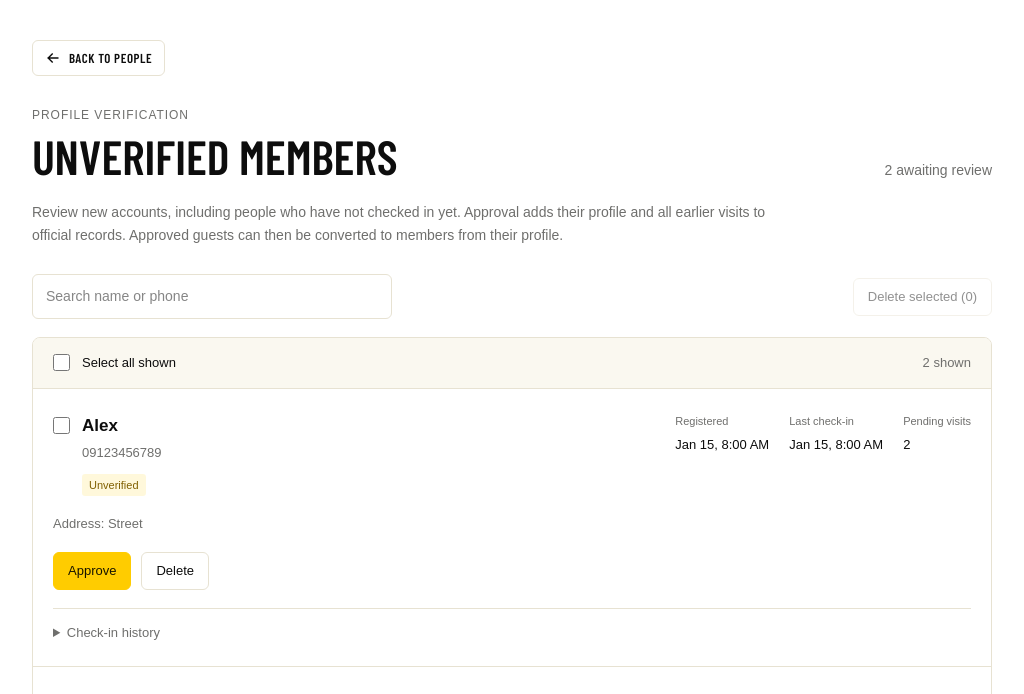
Test: keeps retry available after an unconfirmed request and does not report success
This screenshot has width=1024, height=694.
Click the button "Approve": (92, 571) [53,552,131,590]
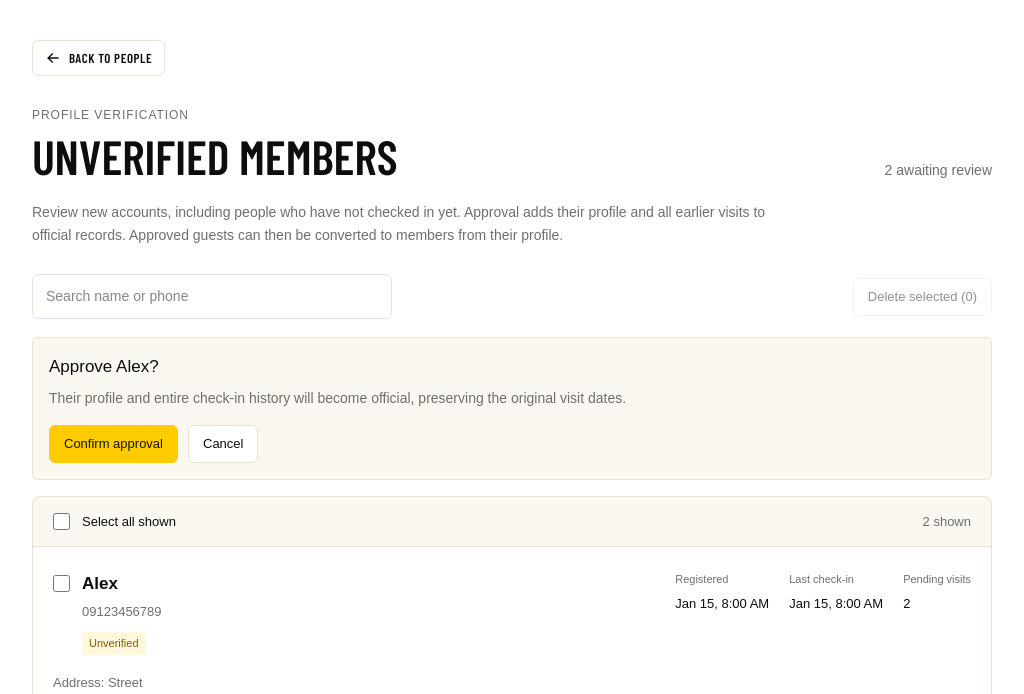
Click the button "Confirm approval": (114, 444) [49,425,178,463]
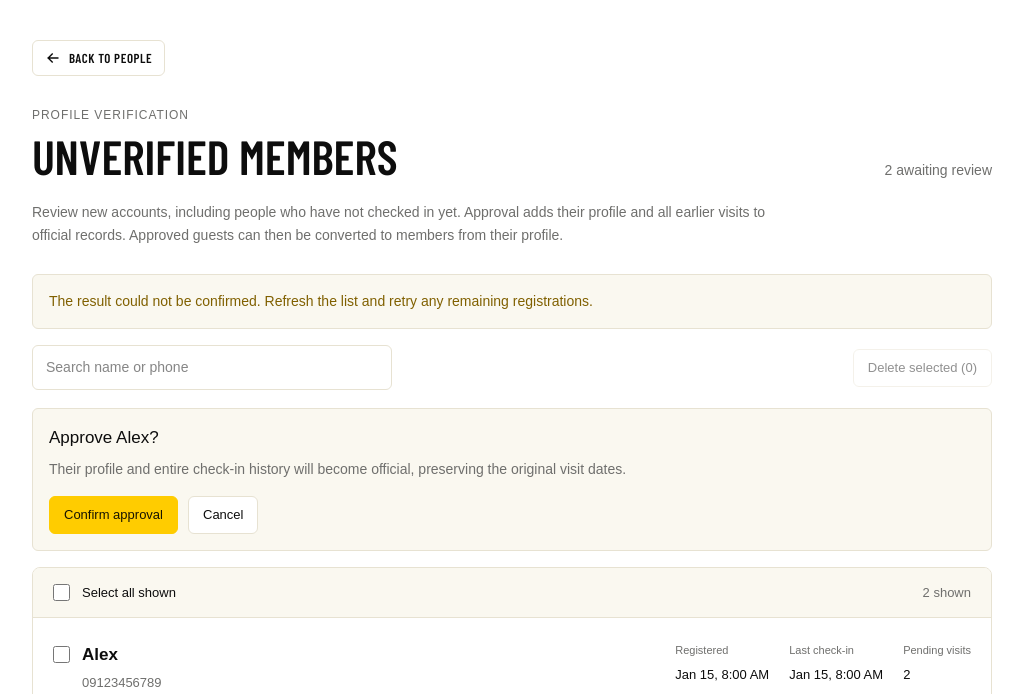
Expected: the button "Confirm approval" is enabled, [49,496,178,534]
Expected: the message shows "could not be confirmed", [49,293,593,309]
